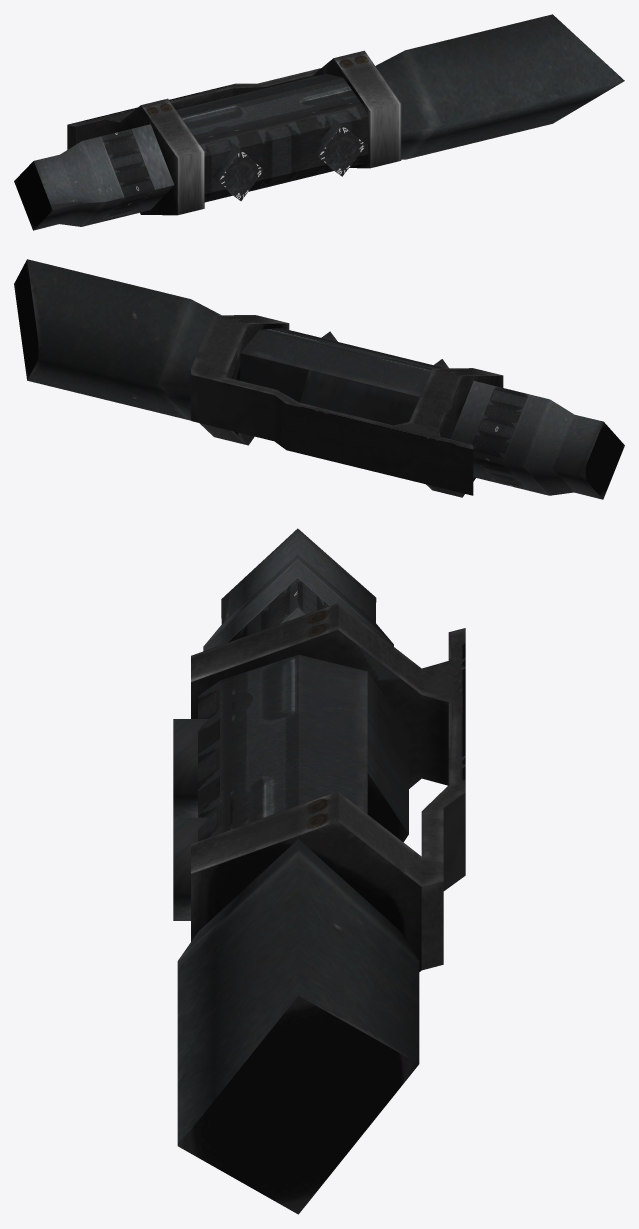
File: t6_wpn_sniper_svu_scope_world_LOD1.obj
3 renders of one model, top to bottom at view 1: azimuth 30°, elevation 25°; view 2: azimuth 150°, elevation 25°; view 3: azimuth 270°, elevation 25°, orthographic. The views are drawn at different scales.
Parts seen in each view (by area): view 1: mtl_t6_wpn_sniper_svu_scope, mtl_t6_wpn_sniper_svu_scope_camo2; view 2: mtl_t6_wpn_sniper_svu_scope, mtl_t6_wpn_sniper_svu_scope_camo2; view 3: mtl_t6_wpn_sniper_svu_scope, mtl_t6_wpn_sniper_svu_scope_camo2.
Boxes of the visible parts, x1,y1,x2,y2 form: mtl_t6_wpn_sniper_svu_scope: (14,14,624,230); mtl_t6_wpn_sniper_svu_scope_camo2: (101,50,401,221); mtl_t6_wpn_sniper_svu_scope: (14,259,624,499); mtl_t6_wpn_sniper_svu_scope_camo2: (191,315,528,497); mtl_t6_wpn_sniper_svu_scope: (173,528,465,1214); mtl_t6_wpn_sniper_svu_scope_camo2: (173,578,421,892).
Bounding box in the file's own units: 26.55 × 4.95 × 5.98.
